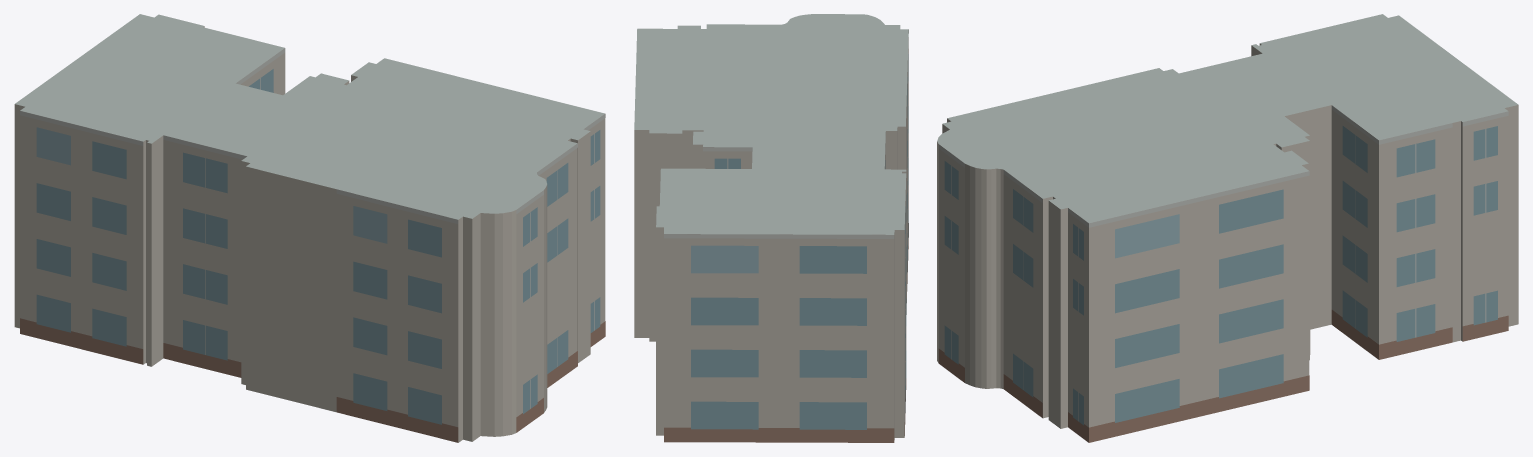
Rendered from survey-upis-32864342.glb.
3 renders of one model, left to right at view 1: azimuth 30°, elevation 25°; view 2: azimuth 150°, elevation 25°; view 3: azimuth 270°, elevation 25°, orthographic. The views are drawn at different scales.
Parts seen in each view (by area): view 1: survey-upis-32864342.tmp; view 2: survey-upis-32864342.tmp; view 3: survey-upis-32864342.tmp.
Part boxes in pixels (x1=…): survey-upis-32864342.tmp: x1=14, y1=14, x2=605, y2=442; survey-upis-32864342.tmp: x1=634, y1=14, x2=908, y2=442; survey-upis-32864342.tmp: x1=937, y1=14, x2=1518, y2=442.
Size of the model in its own units: 24.76 by 12.1 by 29.06.
